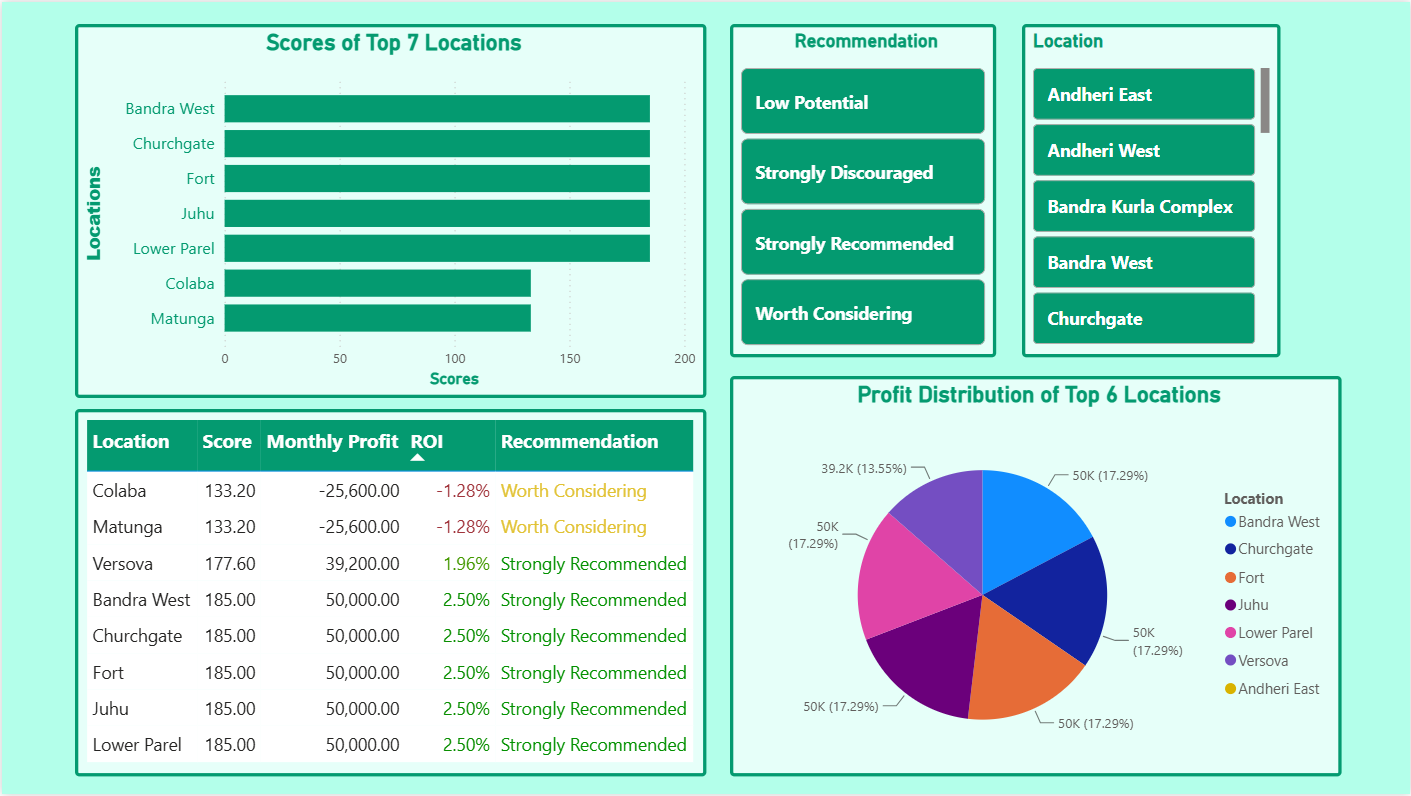

What the dashboard file says about the page in this screenshot:
{"tool":"powerbi","page":{"name":"Final Recommendations","canvas":[1280,720],"ordinal":2},"visuals":[{"type":"tableEx","fields":{"Values":["Model Sheet.Location","Model Sheet.Score","Model Sheet.Monthly Profit","Model Sheet.ROI","Model Sheet.Recommendation"]},"box":[66,370,574,334],"z":0},{"type":"actionButton","box":[0,0,100,40],"z":1000},{"type":"clusteredBarChart","title":"Scores of Top 7 Locations","fields":{"Y":["Sum(Model Sheet.Score)"],"Category":["Model Sheet.Location"]},"box":[66,20,574,340],"z":2000},{"type":"advancedSlicerVisual","fields":{"Values":["Model Sheet.Recommendation"]},"box":[662,20,242,303],"z":3000},{"type":"advancedSlicerVisual","fields":{"Values":["Model Sheet.Location"]},"box":[927,20,235,303],"z":4000},{"type":"pieChart","title":"Profit Distribution of Top 6 Locations","fields":{"Category":["Model Sheet.Location"],"Y":["Sum(Model Sheet.Monthly Profit)"]},"box":[662,340,556,364],"z":5000}]}

Visuals, with their boxes in screenshot pixels (x1, y1, x2, y2), scaled from the page's 1280x720 canvas onto the 1411x796 screenshot:
tableEx - Model Sheet.Location x Model Sheet.Score: {"x1": 73, "y1": 409, "x2": 706, "y2": 778}
actionButton: {"x1": 0, "y1": 0, "x2": 110, "y2": 44}
"Scores of Top 7 Locations" clusteredBarChart: {"x1": 73, "y1": 22, "x2": 706, "y2": 398}
advancedSlicerVisual - Model Sheet.Recommendation: {"x1": 730, "y1": 22, "x2": 997, "y2": 357}
advancedSlicerVisual - Model Sheet.Location: {"x1": 1022, "y1": 22, "x2": 1281, "y2": 357}
"Profit Distribution of Top 6 Locations" pieChart: {"x1": 730, "y1": 376, "x2": 1343, "y2": 778}
